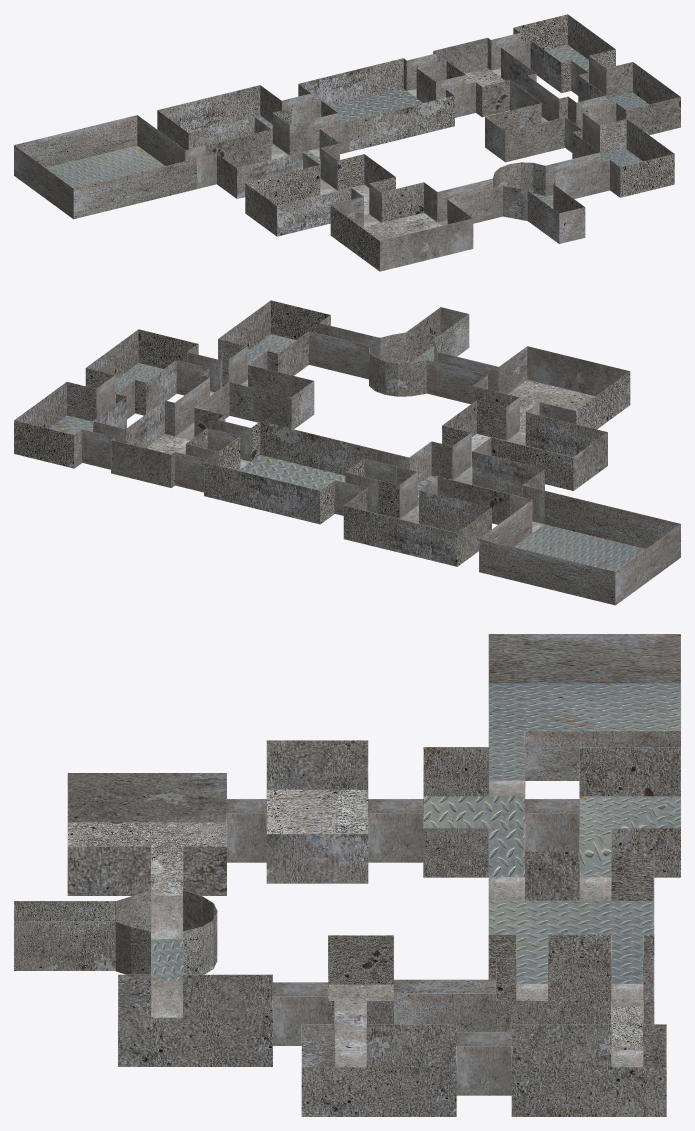
The model's file is level2-2 1.fbx.
The picture shows the model from 3 angles, top to bottom: view 1: azimuth 30°, elevation 25°; view 2: azimuth 150°, elevation 25°; view 3: azimuth 270°, elevation 25°; orthographic projection. The views are drawn at different scales.
Visible parts, largest first — view 1: Habitación.008, Habitación.005, Habitación.010, Habitación.009, Habitación.006, Habitación, Habitación.007, Habitación.003, Habitación.002, Habitación.004, Habitación.001, Spawn (+16 smaller); view 2: Habitación.008, Habitación.005, Habitación.010, Habitación.006, Habitación.009, Habitación.003, Habitación.007, Habitación.002, Habitación.004, Habitación, Habitación.001, Pasillo (+16 smaller); view 3: Habitación.008, Habitación.010, Habitación.005, Habitación.009, Habitación.002, Habitación.003, Habitación, Habitación.006, Habitación.007, Habitación.004, Spawn, Cylinder.001 (+12 smaller).
Boxes of the visible parts, x1,y1,x2,y2 form: Habitación.008: (14,115,196,219); Habitación.005: (298,58,454,151); Habitación.010: (330,182,473,271); Habitación.009: (245,154,395,236); Habitación.006: (157,85,291,150); Habitación: (572,119,674,197); Habitación.007: (205,120,339,198); Habitación.003: (513,14,615,93); Habitación.002: (578,62,680,135); Habitación.004: (433,37,536,117); Habitación.001: (485,96,588,162); Spawn: (527,184,585,243); Habitación.008: (479,491,680,605); Habitación.005: (204,421,376,524); Habitación.010: (473,346,630,432); Habitación.006: (343,480,491,566); Habitación.009: (442,400,607,490); Habitación.003: (14,382,126,468); Habitación.007: (397,441,544,524); Habitación.002: (85,329,198,415); Habitación.004: (111,400,225,487); Habitación: (218,300,330,379); Habitación.001: (200,358,314,429); Pasillo: (308,323,379,379); Habitación.008: (488,634,680,780); Habitación.010: (67,773,226,895); Habitación.005: (488,851,654,983); Habitación.009: (266,740,368,883); Habitación.002: (301,1024,456,1116); Habitación.003: (511,1024,666,1116); Habitación: (118,974,272,1066); Habitación.006: (579,747,680,877); Habitación.007: (423,747,525,877); Habitación.004: (496,958,654,1050); Spawn: (14,901,115,970); Cylinder.001: (115,890,217,980).
Bounding box in the file's own units: 2014 × 108 × 1310.
